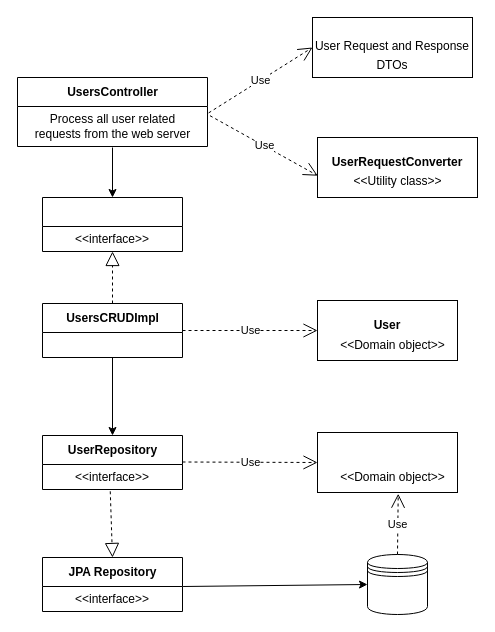
The diagram is 495 pixels wide and 632 high, and some of its shapes have lost their labels. Here are the shapes that lost their labels. From the top down, the box of each, then its label:
(42, 196, 182, 252): IUsersCRUD
(316, 432, 458, 492): UserEntity
(366, 554, 428, 614): MySQL DB
